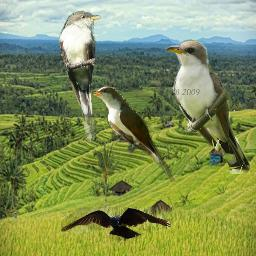Crow: (61, 207, 171, 245)
Cuckoo: (165, 39, 250, 174), (91, 84, 176, 182), (59, 10, 102, 143)
